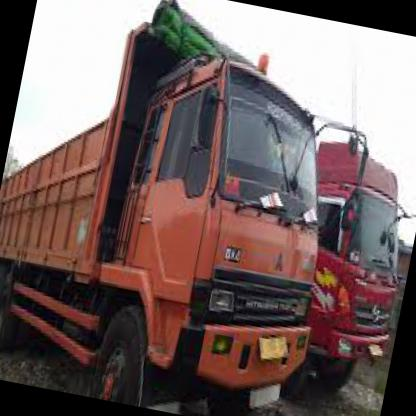truck: (85, 42, 357, 416), (273, 135, 416, 401)
